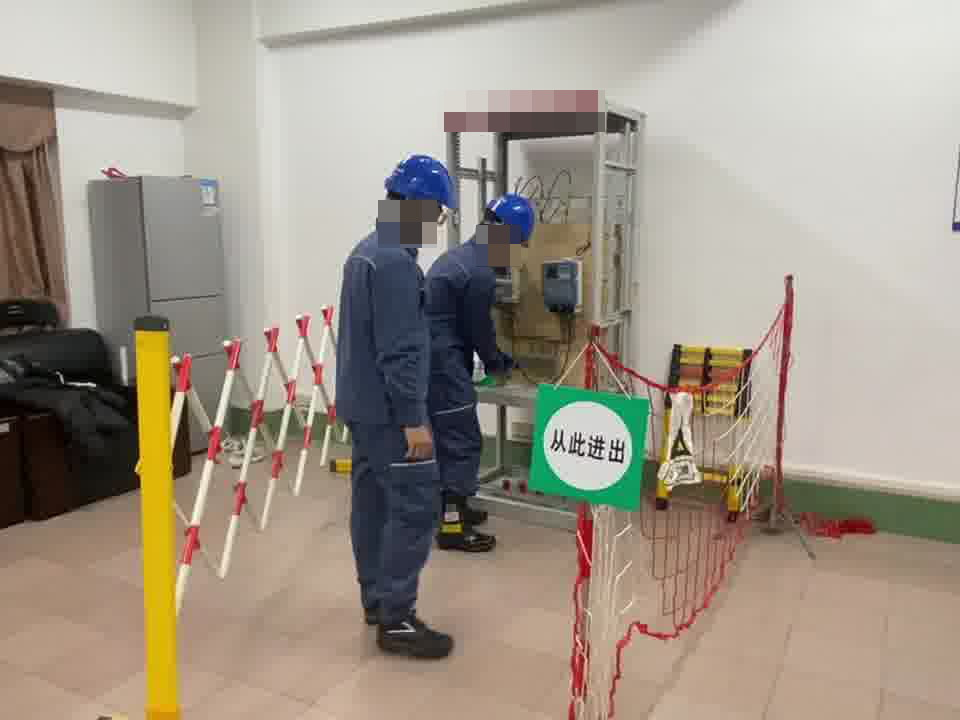downsuit: (350, 424, 456, 622), (433, 383, 480, 498)
halt: (382, 153, 458, 239), (483, 193, 537, 255)
hand: (400, 430, 432, 461)
inear: (405, 202, 432, 238)
intosign: (525, 384, 651, 511)
person: (329, 153, 473, 654), (418, 188, 535, 566)
shoe: (439, 508, 496, 552)
upsuit: (334, 227, 427, 416), (426, 237, 501, 382)
